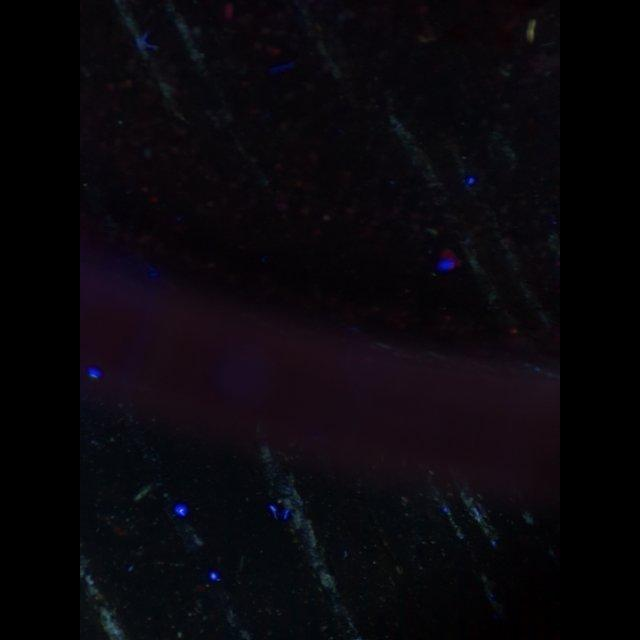microbeads: (524, 18, 538, 42)
